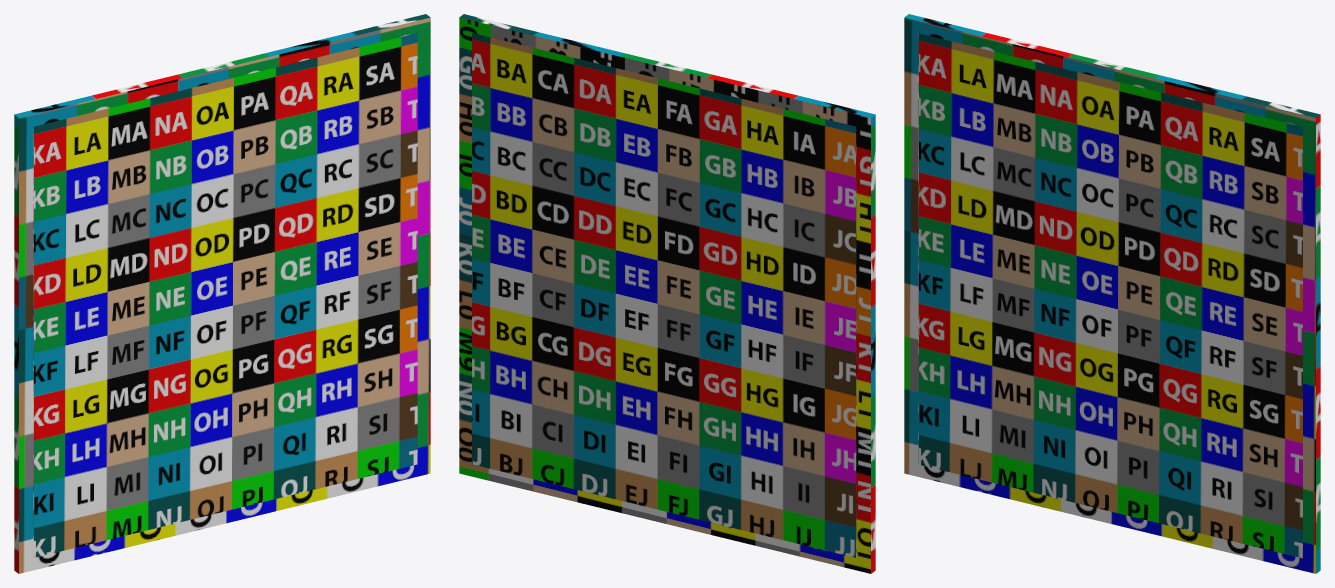
The model's file is glassslider2.FBX.
3 renders of one model, left to right at view 1: azimuth 30°, elevation 25°; view 2: azimuth 150°, elevation 25°; view 3: azimuth 330°, elevation 25°, orthographic.
Visible parts, largest first — view 1: glass slider2, Glass_Slider_2; view 2: glass slider2, Glass_Slider_2; view 3: glass slider2, Glass_Slider_2.
Boxes of the visible parts, x1,y1,x2,y2 form: glass slider2: (33, 33, 417, 557); Glass_Slider_2: (14, 14, 430, 573); glass slider2: (472, 33, 856, 557); Glass_Slider_2: (459, 14, 875, 573); glass slider2: (919, 33, 1302, 558); Glass_Slider_2: (904, 14, 1320, 573).
Bounding box in the file's own units: 1.75 × 1.85 × 0.035.
Materials: 1 (1 with a texture image).
